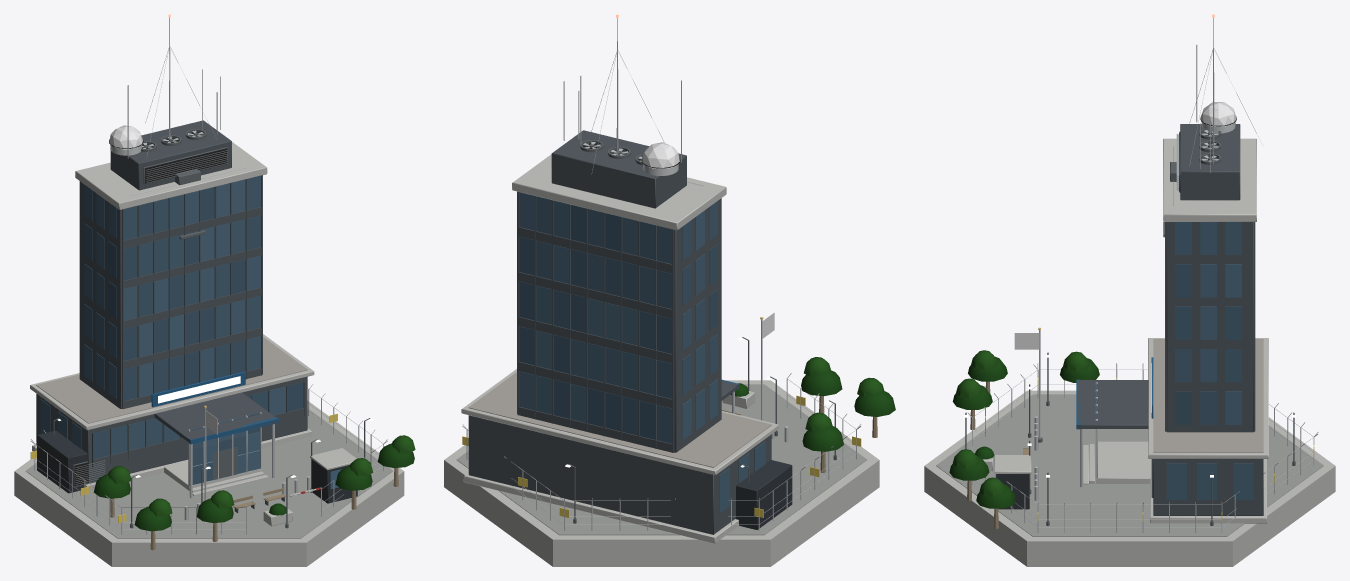
Rendered from intelAgency.glb.
3 renders of one model, left to right at view 1: azimuth 30°, elevation 25°; view 2: azimuth 150°, elevation 25°; view 3: azimuth 270°, elevation 25°, orthographic. The views are drawn at different scales.
Parts seen in each view (by area): view 1: glass, cladding, wall_concrete, pavers, metal, leaf, gravel, steel_dark, paint, dark, wood, glow_warm; view 2: cladding, glass, wall_concrete, pavers, gravel, leaf, metal, paint, steel_dark, hazard; view 3: wall_concrete, cladding, pavers, glass, leaf, metal, gravel, steel_dark, paint.
Boxes of the visible parts, left/top/right/bottom form: glass: left=40, top=176, right=341, bottom=489; cladding: left=36, top=120, right=357, bottom=503; wall_concrete: left=14, top=142, right=404, bottom=566; pavers: left=26, top=408, right=392, bottom=538; metal: left=31, top=17, right=387, bottom=534; leaf: left=93, top=435, right=415, bottom=531; gravel: left=36, top=337, right=307, bottom=423; steel_dark: left=53, top=129, right=370, bottom=528; paint: left=109, top=125, right=320, bottom=495; dark: left=74, top=132, right=227, bottom=486; wood: left=110, top=468, right=398, bottom=550; glow_warm: left=57, top=376, right=373, bottom=477; cladding: left=468, top=130, right=792, bottom=534; glass: left=519, top=192, right=765, bottom=513; wall_concrete: left=444, top=154, right=879, bottom=566; pavers: left=456, top=384, right=867, bottom=535; gravel: left=468, top=372, right=771, bottom=467; leaf: left=730, top=357, right=895, bottom=451; metal: left=462, top=18, right=861, bottom=530; paint: left=642, top=142, right=739, bottom=389; steel_dark: left=569, top=140, right=836, bottom=523; hazard: left=462, top=395, right=861, bottom=517; wall_concrete: left=924, top=138, right=1335, bottom=566; cladding: left=996, top=124, right=1263, bottom=515; pavers: left=936, top=394, right=1323, bottom=536; glass: left=995, top=222, right=1253, bottom=499; leaf: left=949, top=350, right=1099, bottom=508; metal: left=968, top=18, right=1318, bottom=532; gravel: left=1153, top=339, right=1263, bottom=452; steel_dark: left=965, top=128, right=1295, bottom=525; paint: left=1076, top=102, right=1236, bottom=429.
Bounding box in the file's own units: 21.3 × 31.48 × 24.6.
